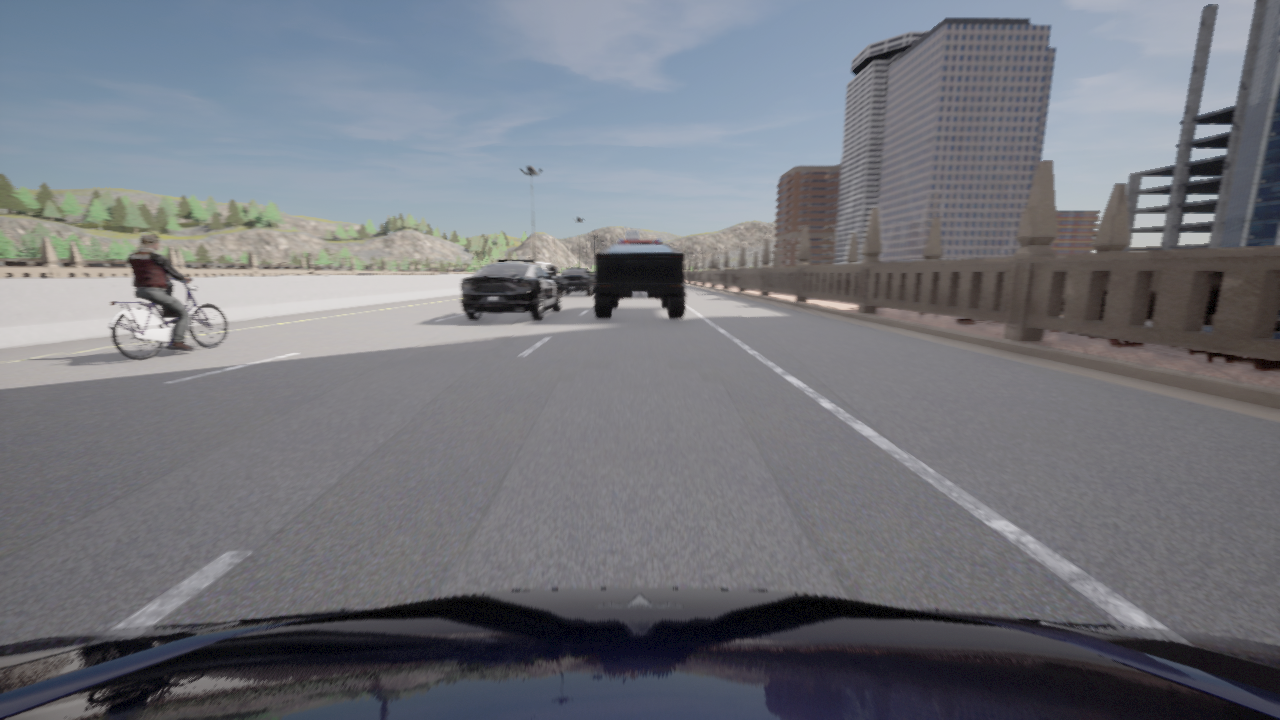cyclist: (0, 588, 1279, 719), (109, 278, 227, 359), (594, 244, 685, 318), (462, 258, 560, 320), (557, 268, 595, 296), (618, 231, 662, 243), (534, 261, 558, 277), (592, 271, 596, 279)
